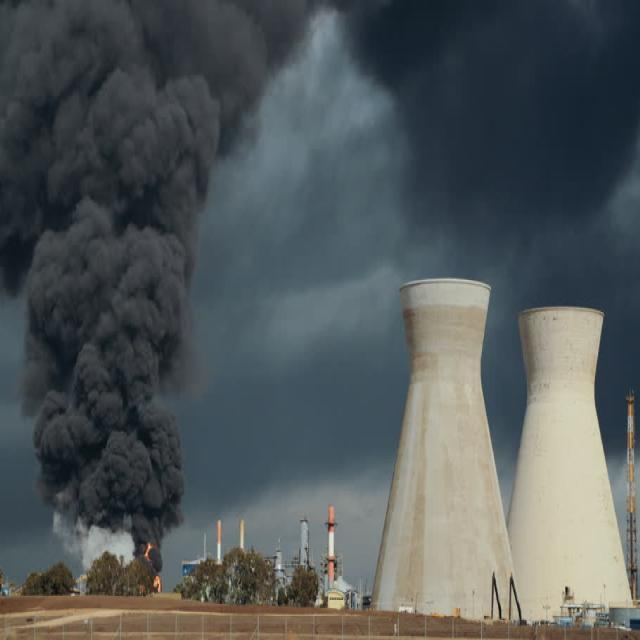Fire: (145, 543, 153, 565), (152, 574, 162, 591)
Smoke: (0, 0, 197, 543), (199, 0, 313, 207)
